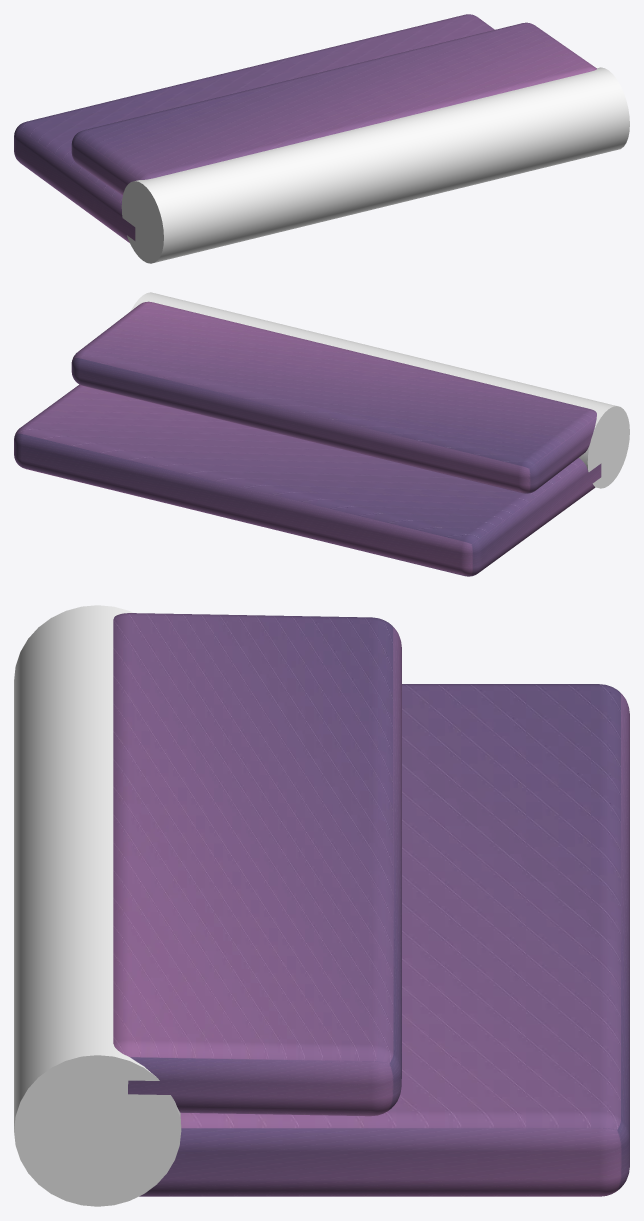
Rendered from state-default.glb.
3 renders of one model, top to bottom at view 1: azimuth 30°, elevation 25°; view 2: azimuth 150°, elevation 25°; view 3: azimuth 270°, elevation 25°, orthographic. The views are drawn at different scales.
Visible parts, largest first — view 1: assetPrim:bf9beb5fb79a8-19c744766ad:duvet-fold-curve, assetPrim:bf9beb5fb79a8-19c744766ad:duvet-top-fold, assetPrim:bf9beb5fb79a8-19c744766ad:duvet-bottom-layer; view 2: assetPrim:bf9beb5fb79a8-19c744766ad:duvet-bottom-layer, assetPrim:bf9beb5fb79a8-19c744766ad:duvet-top-fold, assetPrim:bf9beb5fb79a8-19c744766ad:duvet-fold-curve; view 3: assetPrim:bf9beb5fb79a8-19c744766ad:duvet-top-fold, assetPrim:bf9beb5fb79a8-19c744766ad:duvet-bottom-layer, assetPrim:bf9beb5fb79a8-19c744766ad:duvet-fold-curve.
Boxes of the visible parts, x1,y1,x2,y2 form: assetPrim:bf9beb5fb79a8-19c744766ad:duvet-fold-curve: (121,67,629,263); assetPrim:bf9beb5fb79a8-19c744766ad:duvet-top-fold: (71,22,596,195); assetPrim:bf9beb5fb79a8-19c744766ad:duvet-bottom-layer: (14,14,494,242); assetPrim:bf9beb5fb79a8-19c744766ad:duvet-bottom-layer: (14,384,601,576); assetPrim:bf9beb5fb79a8-19c744766ad:duvet-top-fold: (71,301,596,493); assetPrim:bf9beb5fb79a8-19c744766ad:duvet-fold-curve: (131,292,629,488); assetPrim:bf9beb5fb79a8-19c744766ad:duvet-top-fold: (113,613,401,1116); assetPrim:bf9beb5fb79a8-19c744766ad:duvet-bottom-layer: (139,684,629,1196); assetPrim:bf9beb5fb79a8-19c744766ad:duvet-fold-curve: (14,605,181,1206).
Size of the model in its own units: 1.4 by 0.2232 by 0.81.
3 materials, 2 textured.
